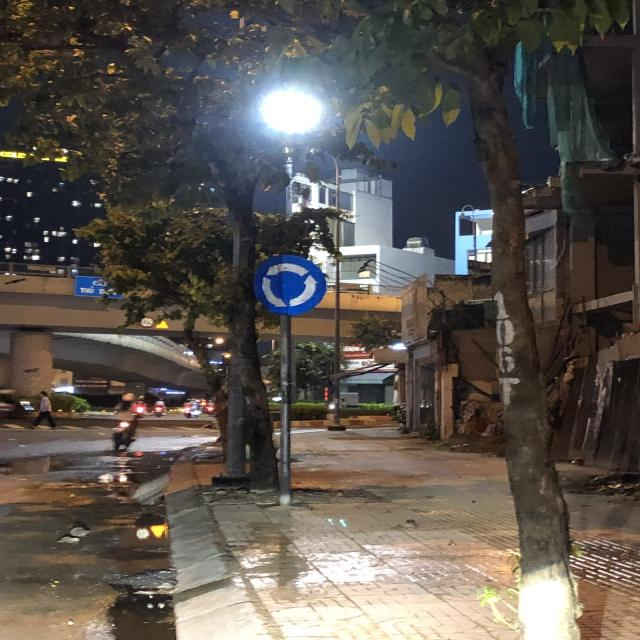Bien bao noi giao nhau chay theo vong xuyen: (248, 247, 332, 320)
